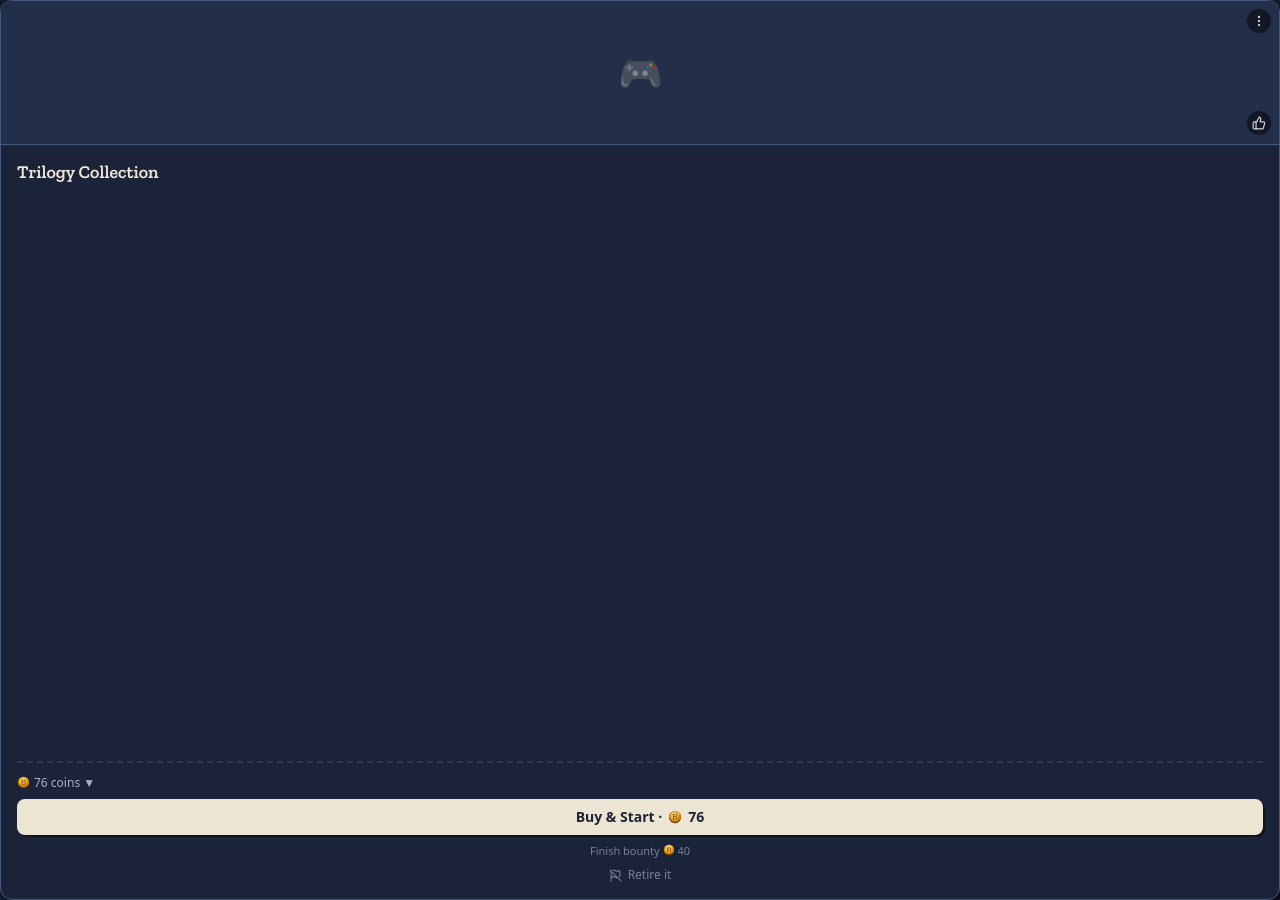
GameCard expand/collapse compilation menu › offers Split into games… for an owned card matching a linked template
This screenshot has width=1280, height=900.
Step 1. Click the button named "More options" → (1259, 21), box [1247,9,1271,33]
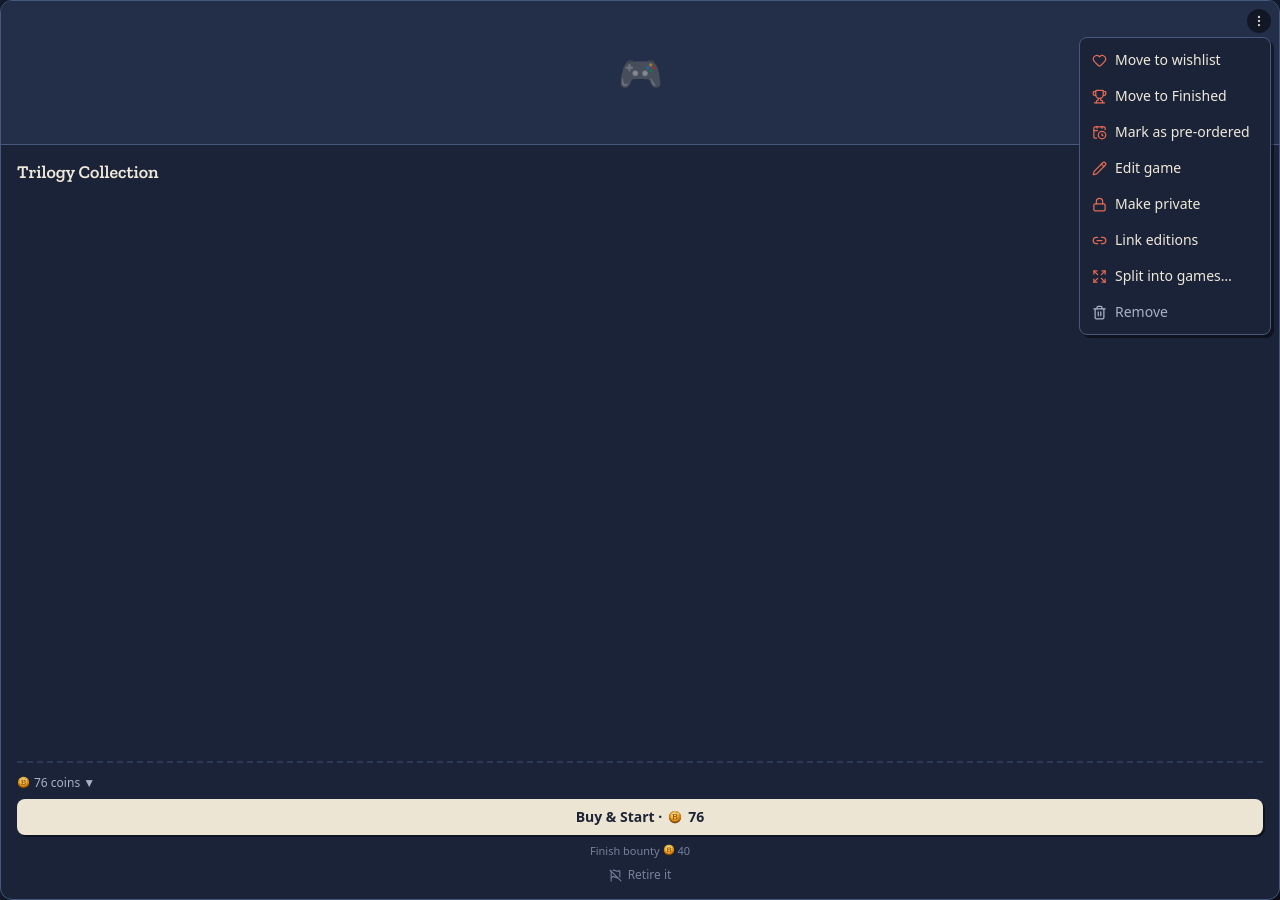
Check: the button "Split into games…" is shown, box [1084,258,1266,294]
